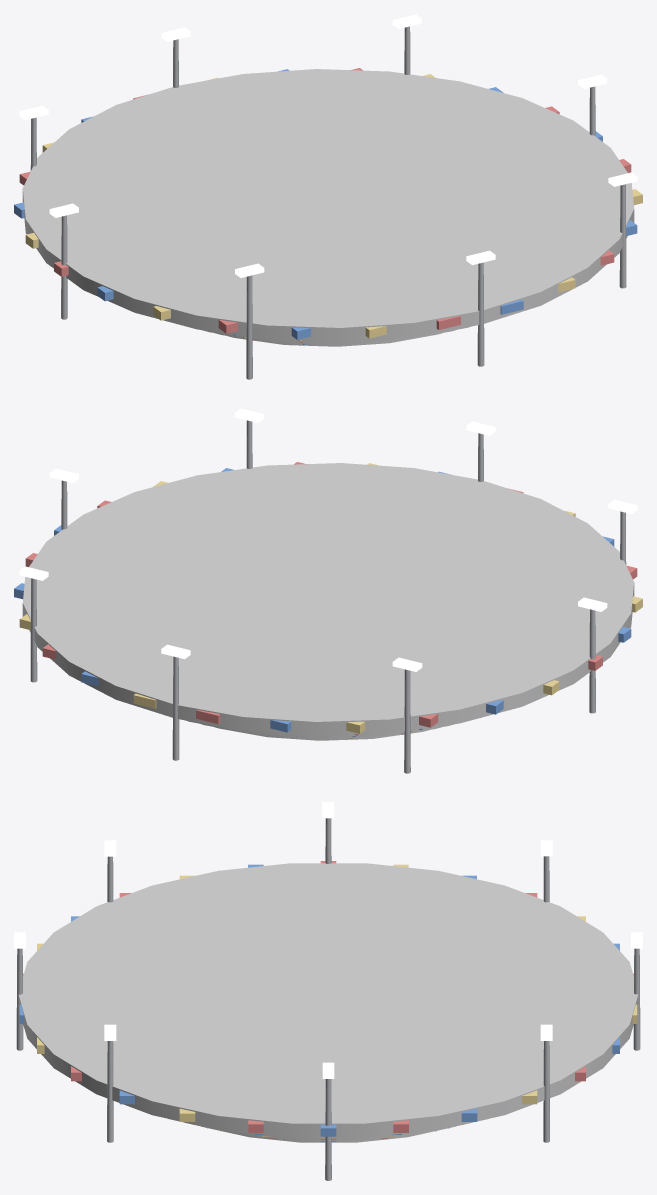
Rendered from stadium_stands.glb.
3 renders of one model, top to bottom at view 1: azimuth 30°, elevation 25°; view 2: azimuth 150°, elevation 25°; view 3: azimuth 270°, elevation 25°, orthographic.
Visible parts, largest first — view 1: stadium_stands; view 2: stadium_stands; view 3: stadium_stands.
Part boxes in pixels (x1,y1,x2,y2): stadium_stands: [14, 14, 642, 379]; stadium_stands: [14, 408, 642, 773]; stadium_stands: [14, 802, 642, 1180].
Bounding box in the file's own units: 37.6 × 7.15 × 36.7.
